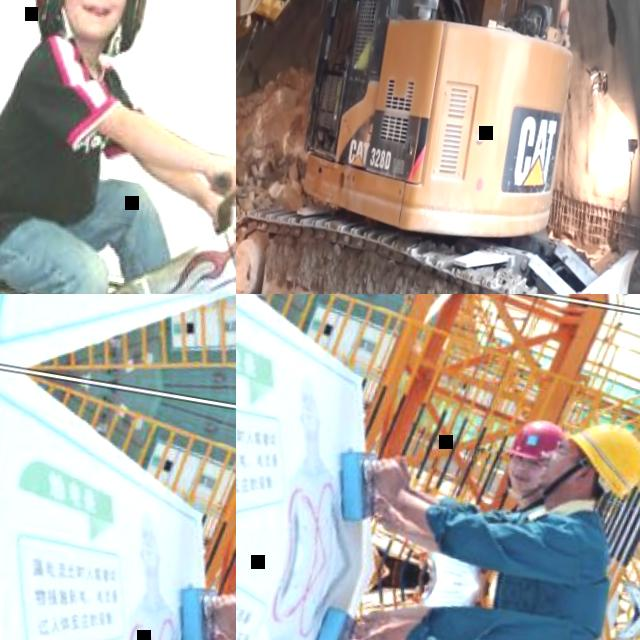Hardhat: (557, 414, 640, 503), (22, 0, 156, 52), (503, 416, 567, 462)
NO-Mask: (51, 0, 128, 41), (537, 451, 567, 487), (505, 467, 539, 493)
NO-Safety Vest: (0, 15, 149, 270), (502, 504, 619, 623), (486, 577, 614, 640)
Person: (0, 0, 236, 294), (357, 381, 640, 591), (363, 396, 566, 570), (313, 564, 622, 640), (334, 576, 540, 640), (331, 10, 378, 122)
Safety Vest: (353, 34, 374, 72)
vehicle: (236, 0, 640, 294)
